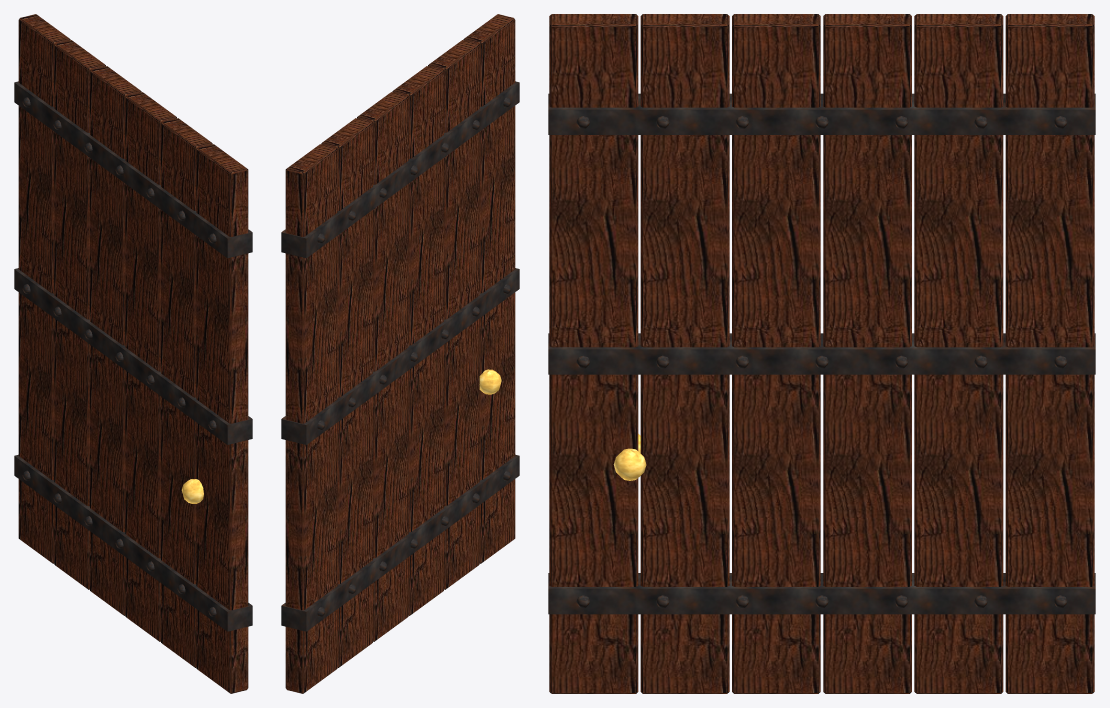
Rendered from sp_esc_door.glb.
3 views of the same model, side by side, from view 1: azimuth 30°, elevation 25°; view 2: azimuth 150°, elevation 25°; view 3: azimuth 270°, elevation 25° (orthographic). The views are drawn at different scales.
Parts seen in each view (by area): view 1: spire; view 2: spire; view 3: spire.
Part boxes in pixels (left/top/right/bottom): spire: left=14, top=14, right=252, bottom=693; spire: left=281, top=14, right=519, bottom=693; spire: left=548, top=14, right=1095, bottom=693.
Size of the model in its own units: 0.32 by 3.16 by 2.34.
3 materials, 3 textured.
